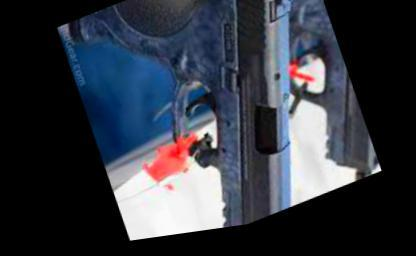pistol: (76, 0, 367, 247)
